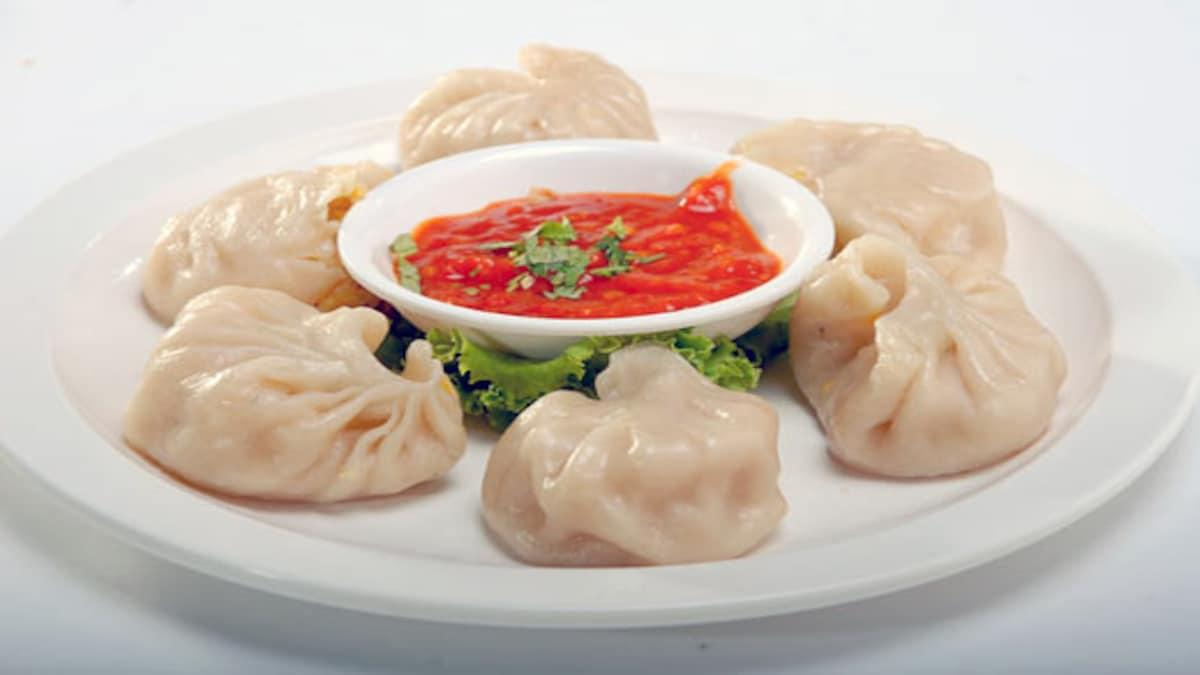momos: (127, 286, 466, 500), (790, 234, 1066, 477), (483, 347, 785, 564), (734, 120, 1005, 270), (143, 162, 391, 320), (401, 45, 656, 169)
